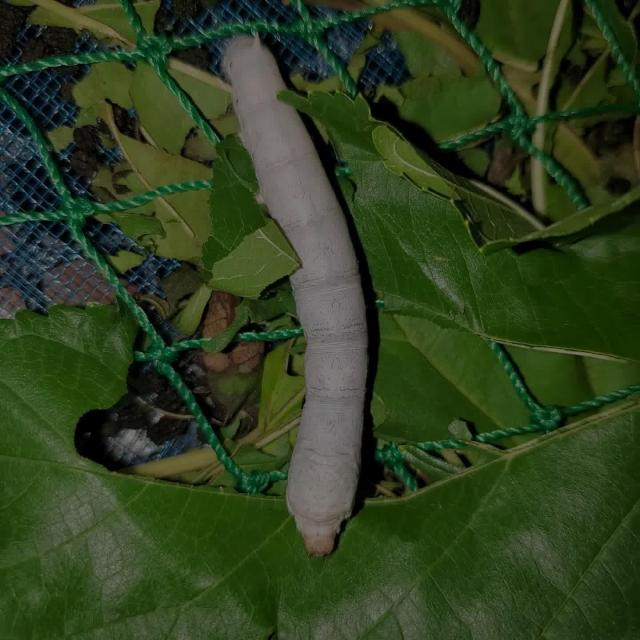Healthy: (178, 19, 436, 578)
